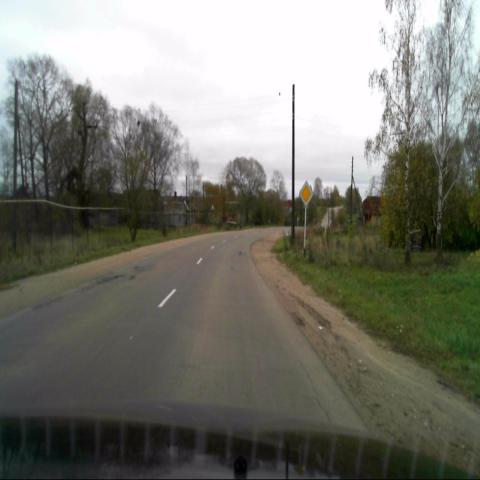2_1: (299, 180, 313, 206)
